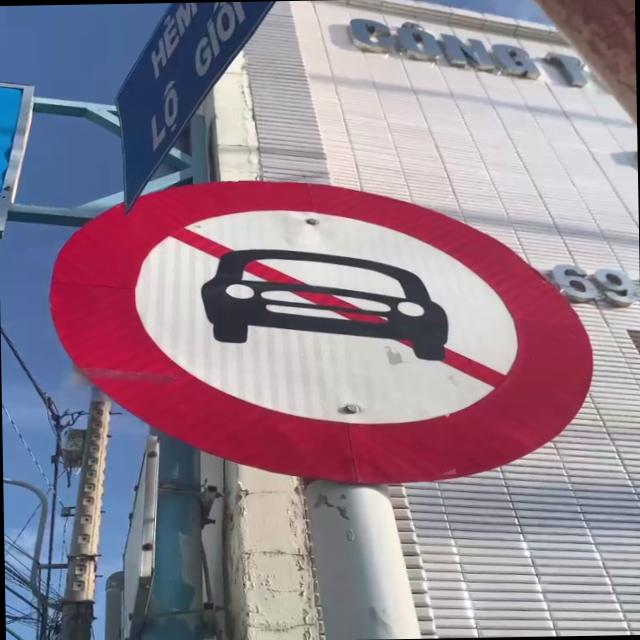Cam_O_To: (50, 171, 596, 494)
